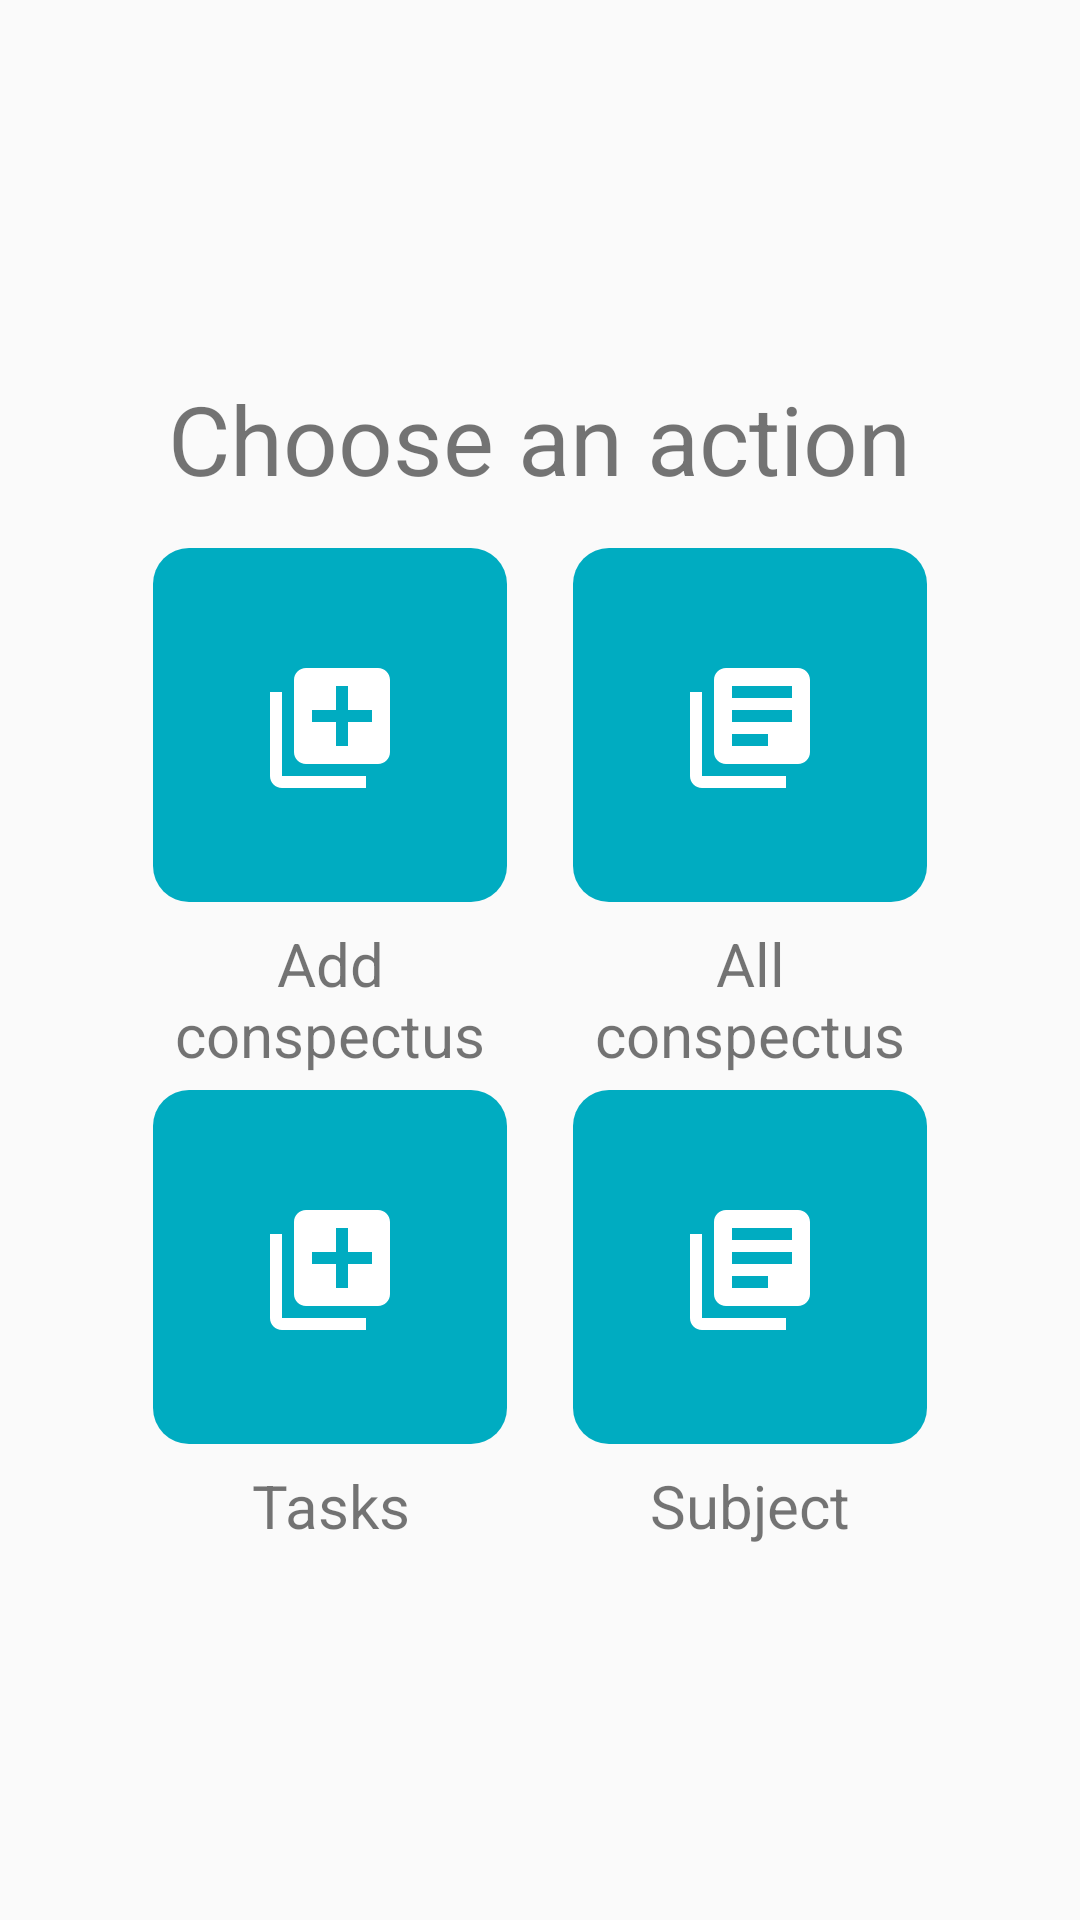

Locate icon controls on the screen. Image size 1080 × 1920, boxes as (x1, y1, x2, y2).
library add: (153, 548, 507, 902), (153, 1090, 507, 1444)
library books: (573, 548, 927, 902), (573, 1090, 927, 1444)
